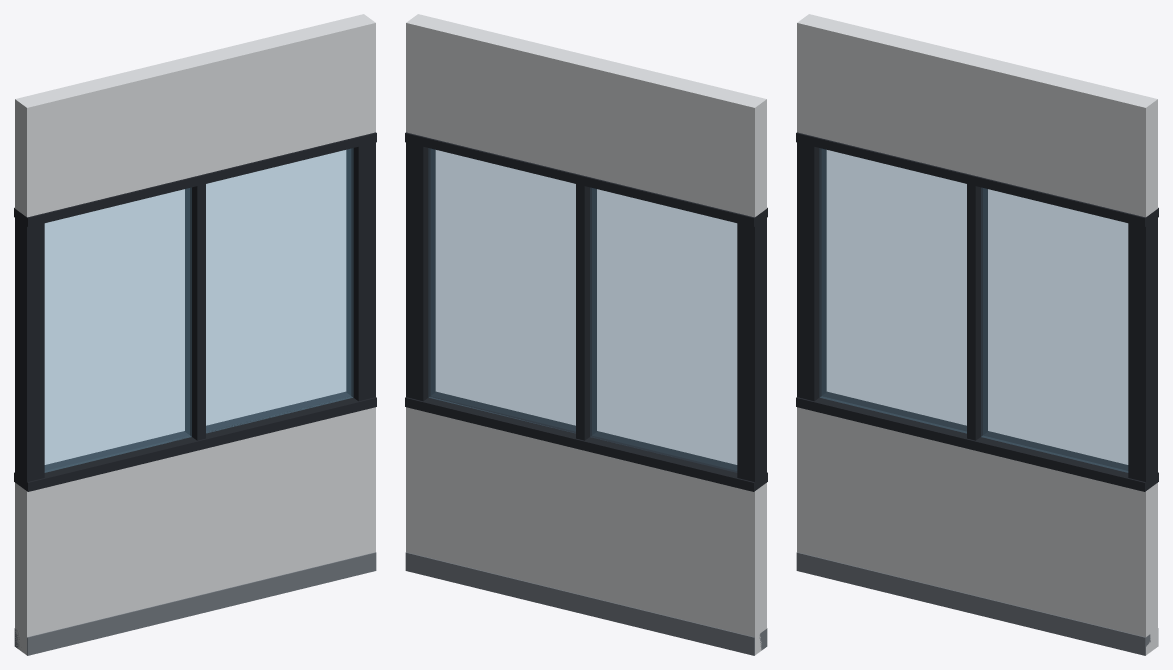
The model's file is 55_Wall_Window_Panel_2m.fbx.
3 renders of one model, left to right at view 1: azimuth 30°, elevation 25°; view 2: azimuth 150°, elevation 25°; view 3: azimuth 330°, elevation 25°, orthographic.
Visible parts, largest first — view 1: 55_Wall_Window_Panel_2m; view 2: 55_Wall_Window_Panel_2m; view 3: 55_Wall_Window_Panel_2m.
Part boxes in pixels (x1=…): 55_Wall_Window_Panel_2m: x1=14, y1=14, x2=376, y2=655; 55_Wall_Window_Panel_2m: x1=405, y1=14, x2=767, y2=655; 55_Wall_Window_Panel_2m: x1=796, y1=14, x2=1158, y2=655.
Bounding box in the file's own units: 2 × 3 × 0.14.
